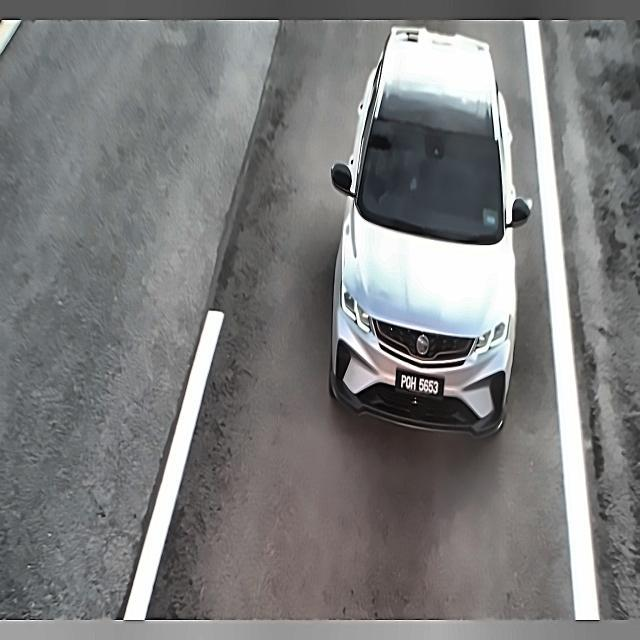car: (394, 365, 446, 407)
